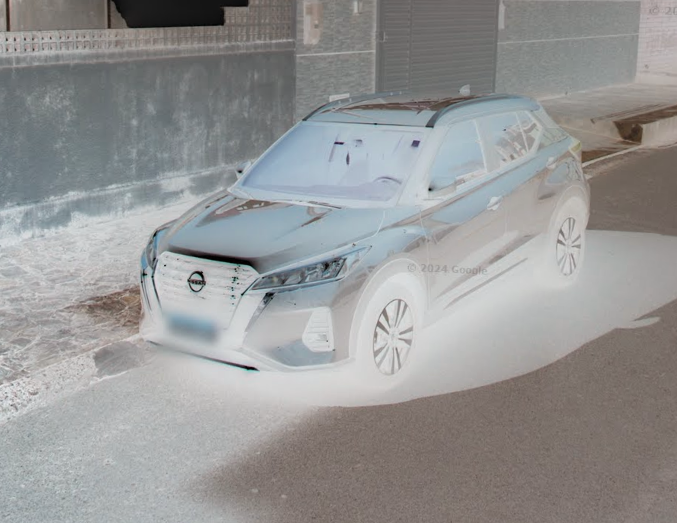car: (131, 81, 592, 387)
